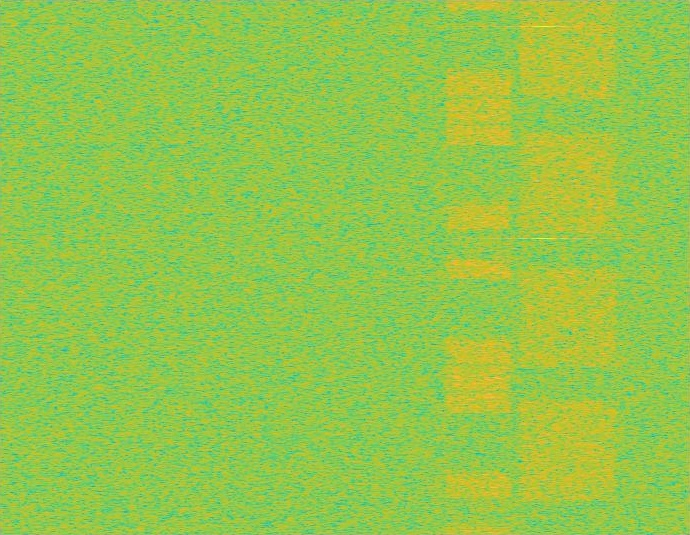5G: (517, 0, 620, 534)
LTE: (445, 0, 514, 534)
Radar: (537, 0, 551, 534)
